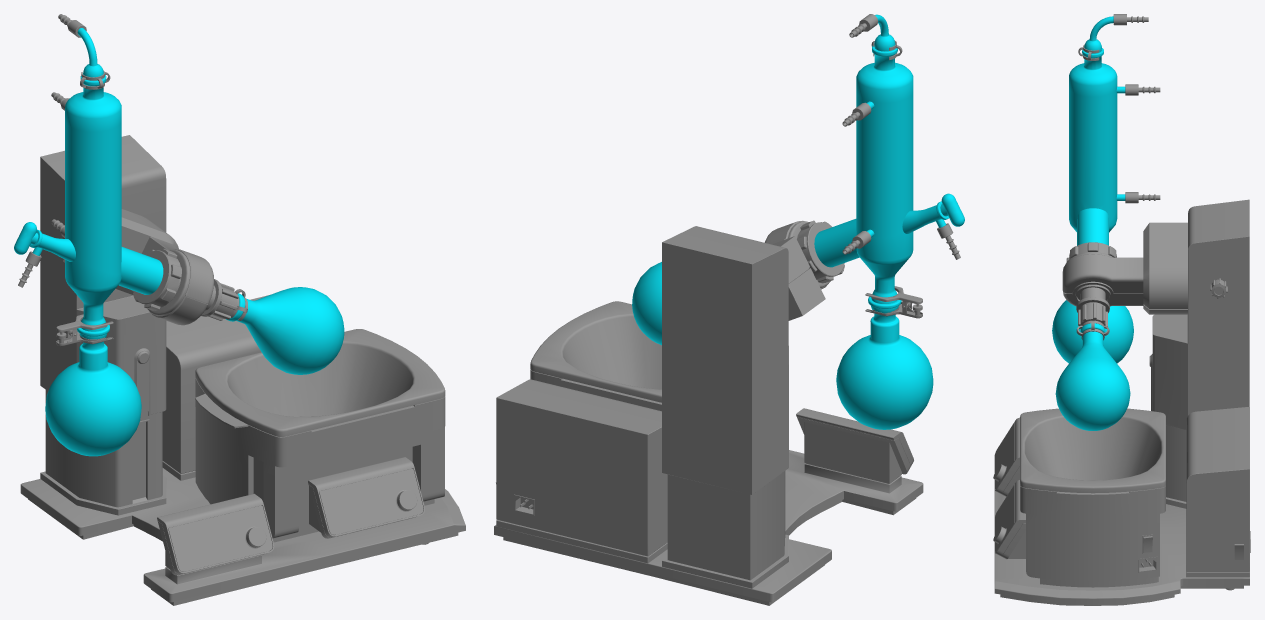
File: SM_Rotary_Evaporators_LOD0.FBX
3 views of the same model, side by side, from view 1: azimuth 30°, elevation 25°; view 2: azimuth 150°, elevation 25°; view 3: azimuth 270°, elevation 25° (orthographic). The views are drawn at different scales.
Visible parts, largest first — view 1: Rotary_Evaporators; view 2: Rotary_Evaporators; view 3: Rotary_Evaporators.
Boxes of the visible parts, <box> form: Rotary_Evaporators: <box>14,14,465,605</box>; Rotary_Evaporators: <box>494,14,964,605</box>; Rotary_Evaporators: <box>993,14,1250,605</box>.
Bounding box in the file's own units: 0.6554 × 0.8141 × 0.4145.
